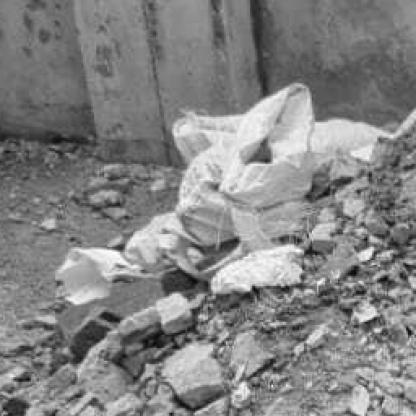cementitious_debris: (4, 119, 414, 413)
